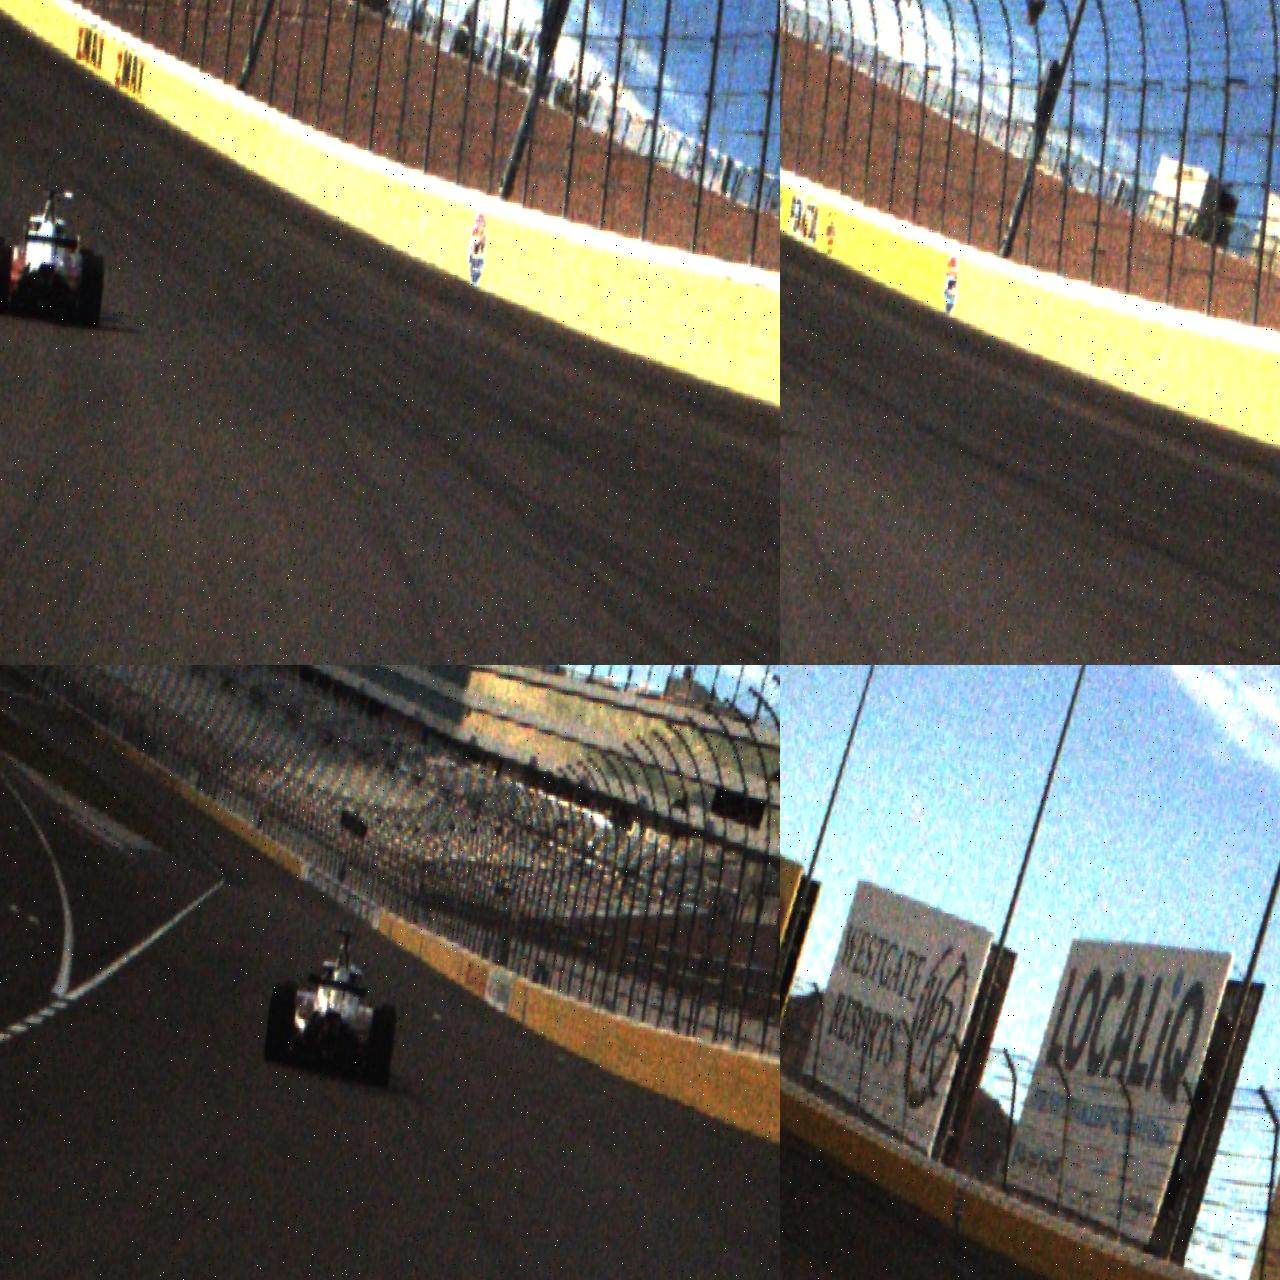AV: (261, 920, 407, 1091), (0, 183, 113, 327)
Wheel: (365, 1003, 397, 1090), (264, 983, 298, 1067), (77, 253, 105, 327), (0, 245, 12, 316)
